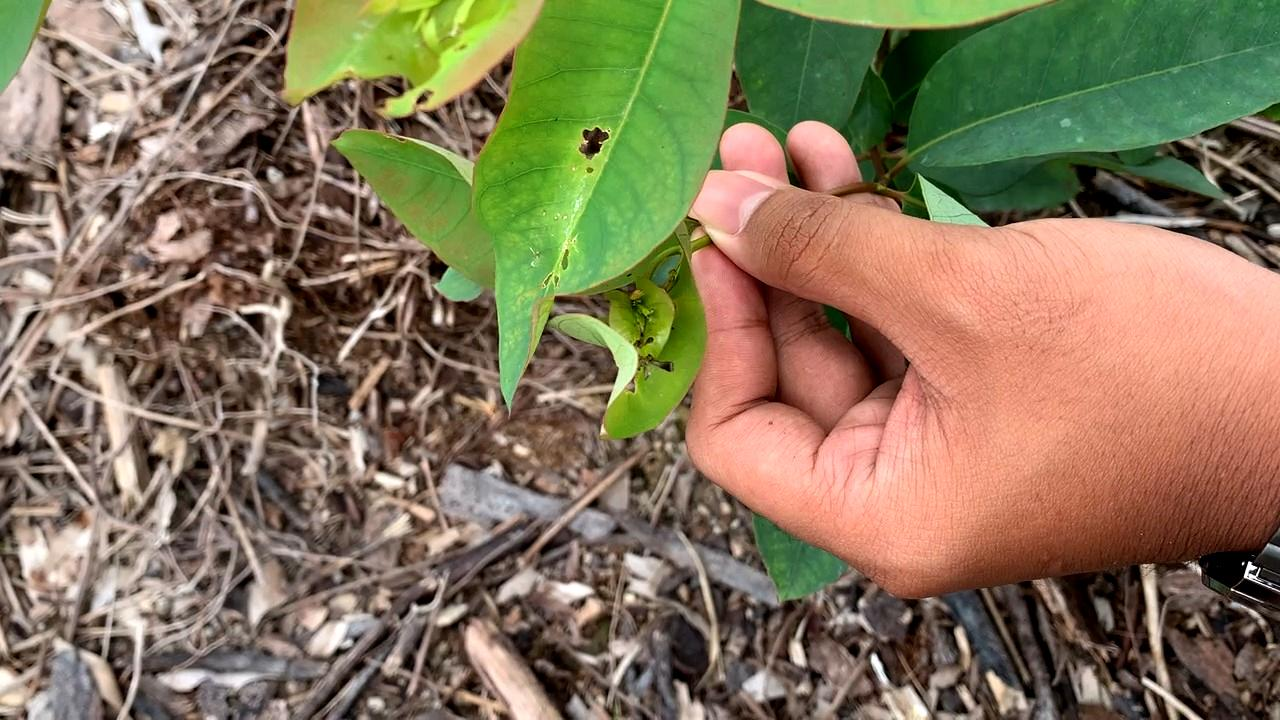Leaf Roller - Leaf: (557, 237, 735, 457)
